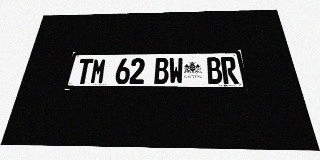2: (129, 58, 145, 84)
6: (115, 58, 131, 84)
B: (206, 57, 223, 84), (154, 58, 168, 84)
M: (89, 58, 107, 84)
R: (220, 57, 239, 84)
T: (75, 59, 93, 84)
W: (169, 58, 184, 84)
